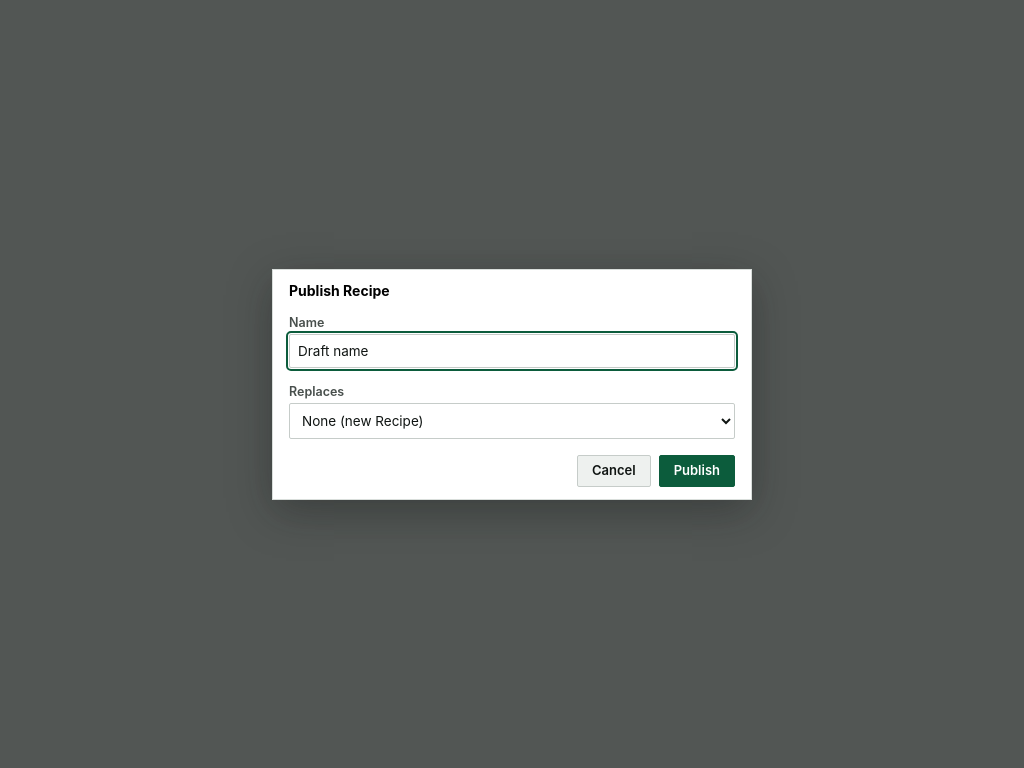
Test: PublishRecipeModal › shows the server's error and stays open
The image size is (1024, 768).
Click the button "Publish": {"x": 697, "y": 470} 659,454 -> 735,486
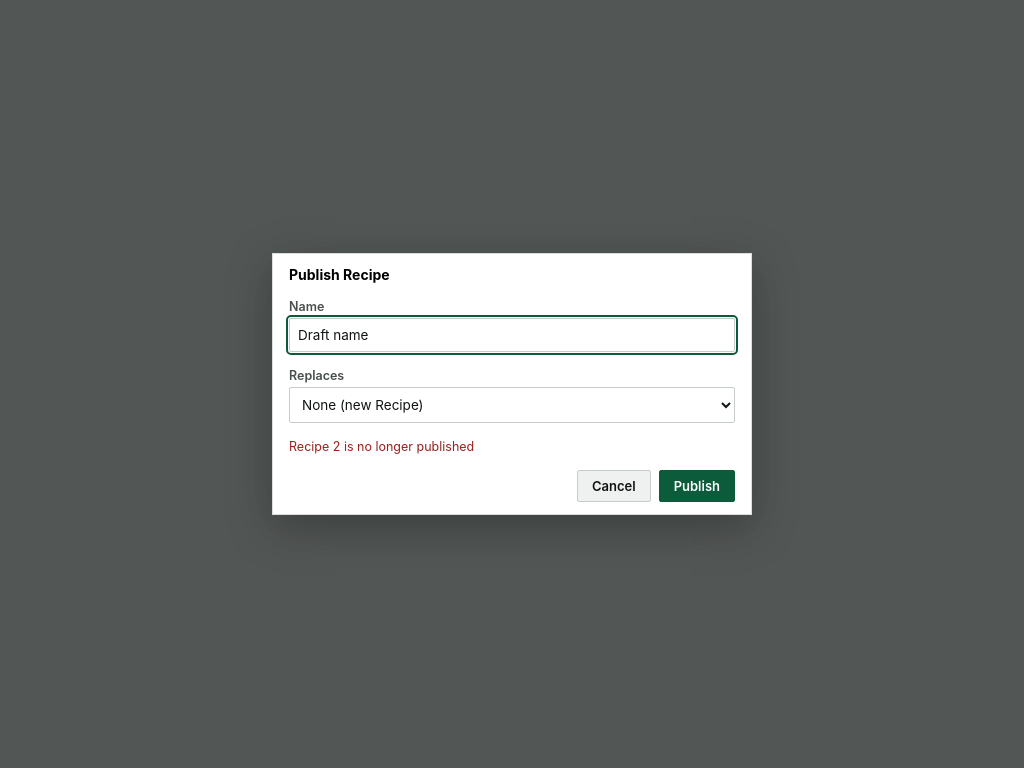
Check: the text "Recipe 2 is no longer published" is shown, box 289,439 -> 474,454
